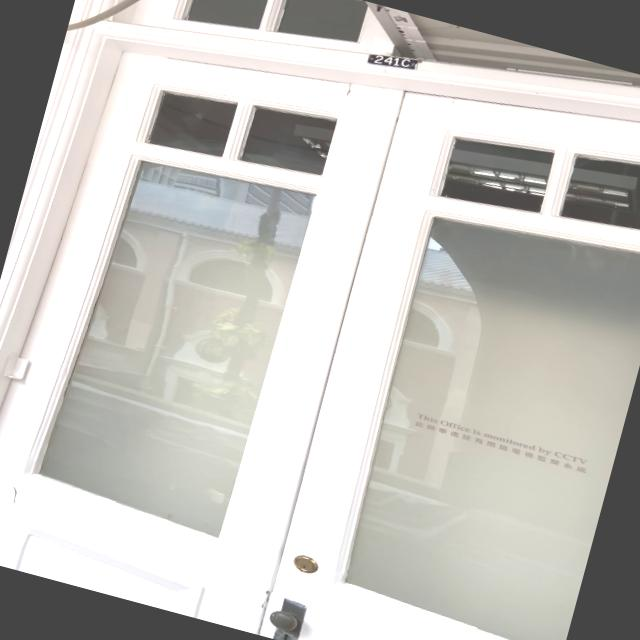room241c: (362, 45, 420, 77)
